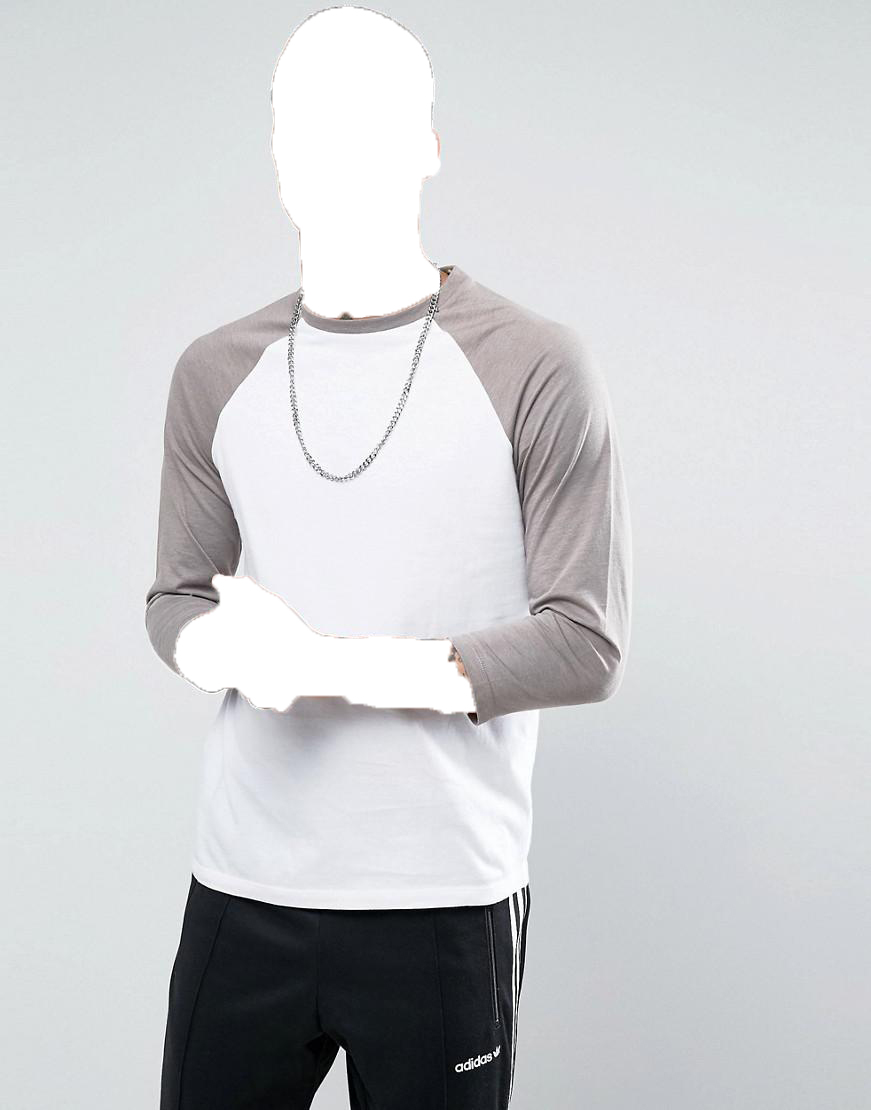teeshirt: (134, 271, 637, 920)
